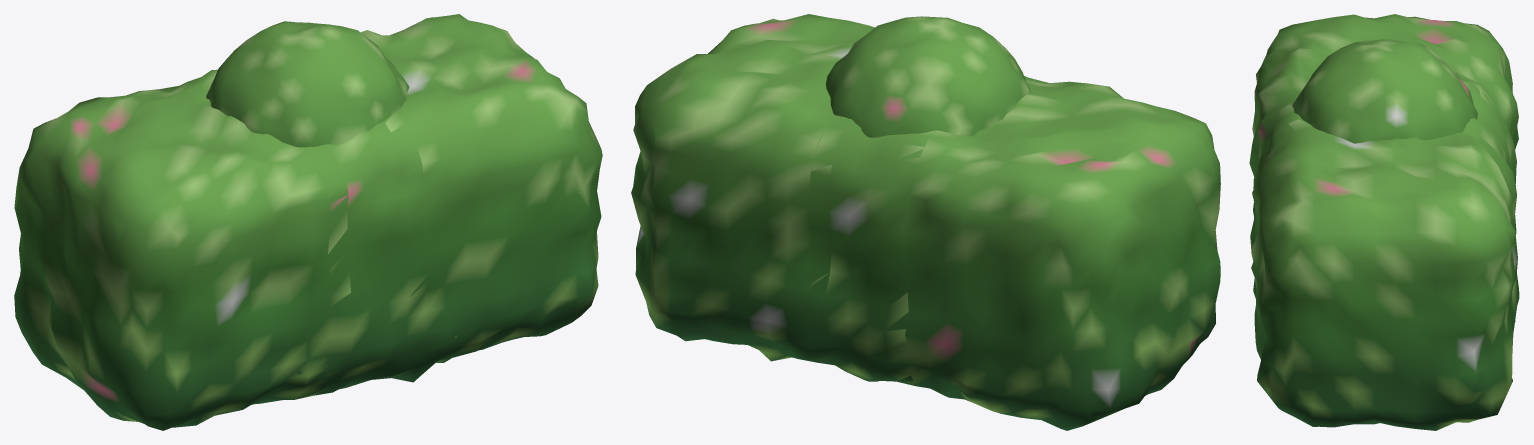
Rendered from setos.glb.
3 views of the same model, side by side, from view 1: azimuth 30°, elevation 25°; view 2: azimuth 150°, elevation 25°; view 3: azimuth 270°, elevation 25° (orthographic). The views are drawn at different scales.
Visible parts, largest first — view 1: Seto largo, Topiario, Seto corto; view 2: Seto largo, Topiario, Seto corto; view 3: Seto largo, Topiario, Seto corto.
Part boxes in pixels (bbox=[...]): Seto largo: bbox=[14, 14, 602, 430]; Topiario: bbox=[206, 21, 409, 147]; Seto corto: bbox=[211, 70, 456, 395]; Seto largo: bbox=[631, 14, 1220, 430]; Topiario: bbox=[825, 16, 1030, 137]; Seto corto: bbox=[803, 120, 935, 385]; Seto largo: bbox=[1249, 14, 1519, 430]; Topiario: bbox=[1292, 39, 1477, 143]; Seto corto: bbox=[1253, 82, 1518, 321].
Size of the model in its own units: 4.11 by 2.57 by 2.12.
